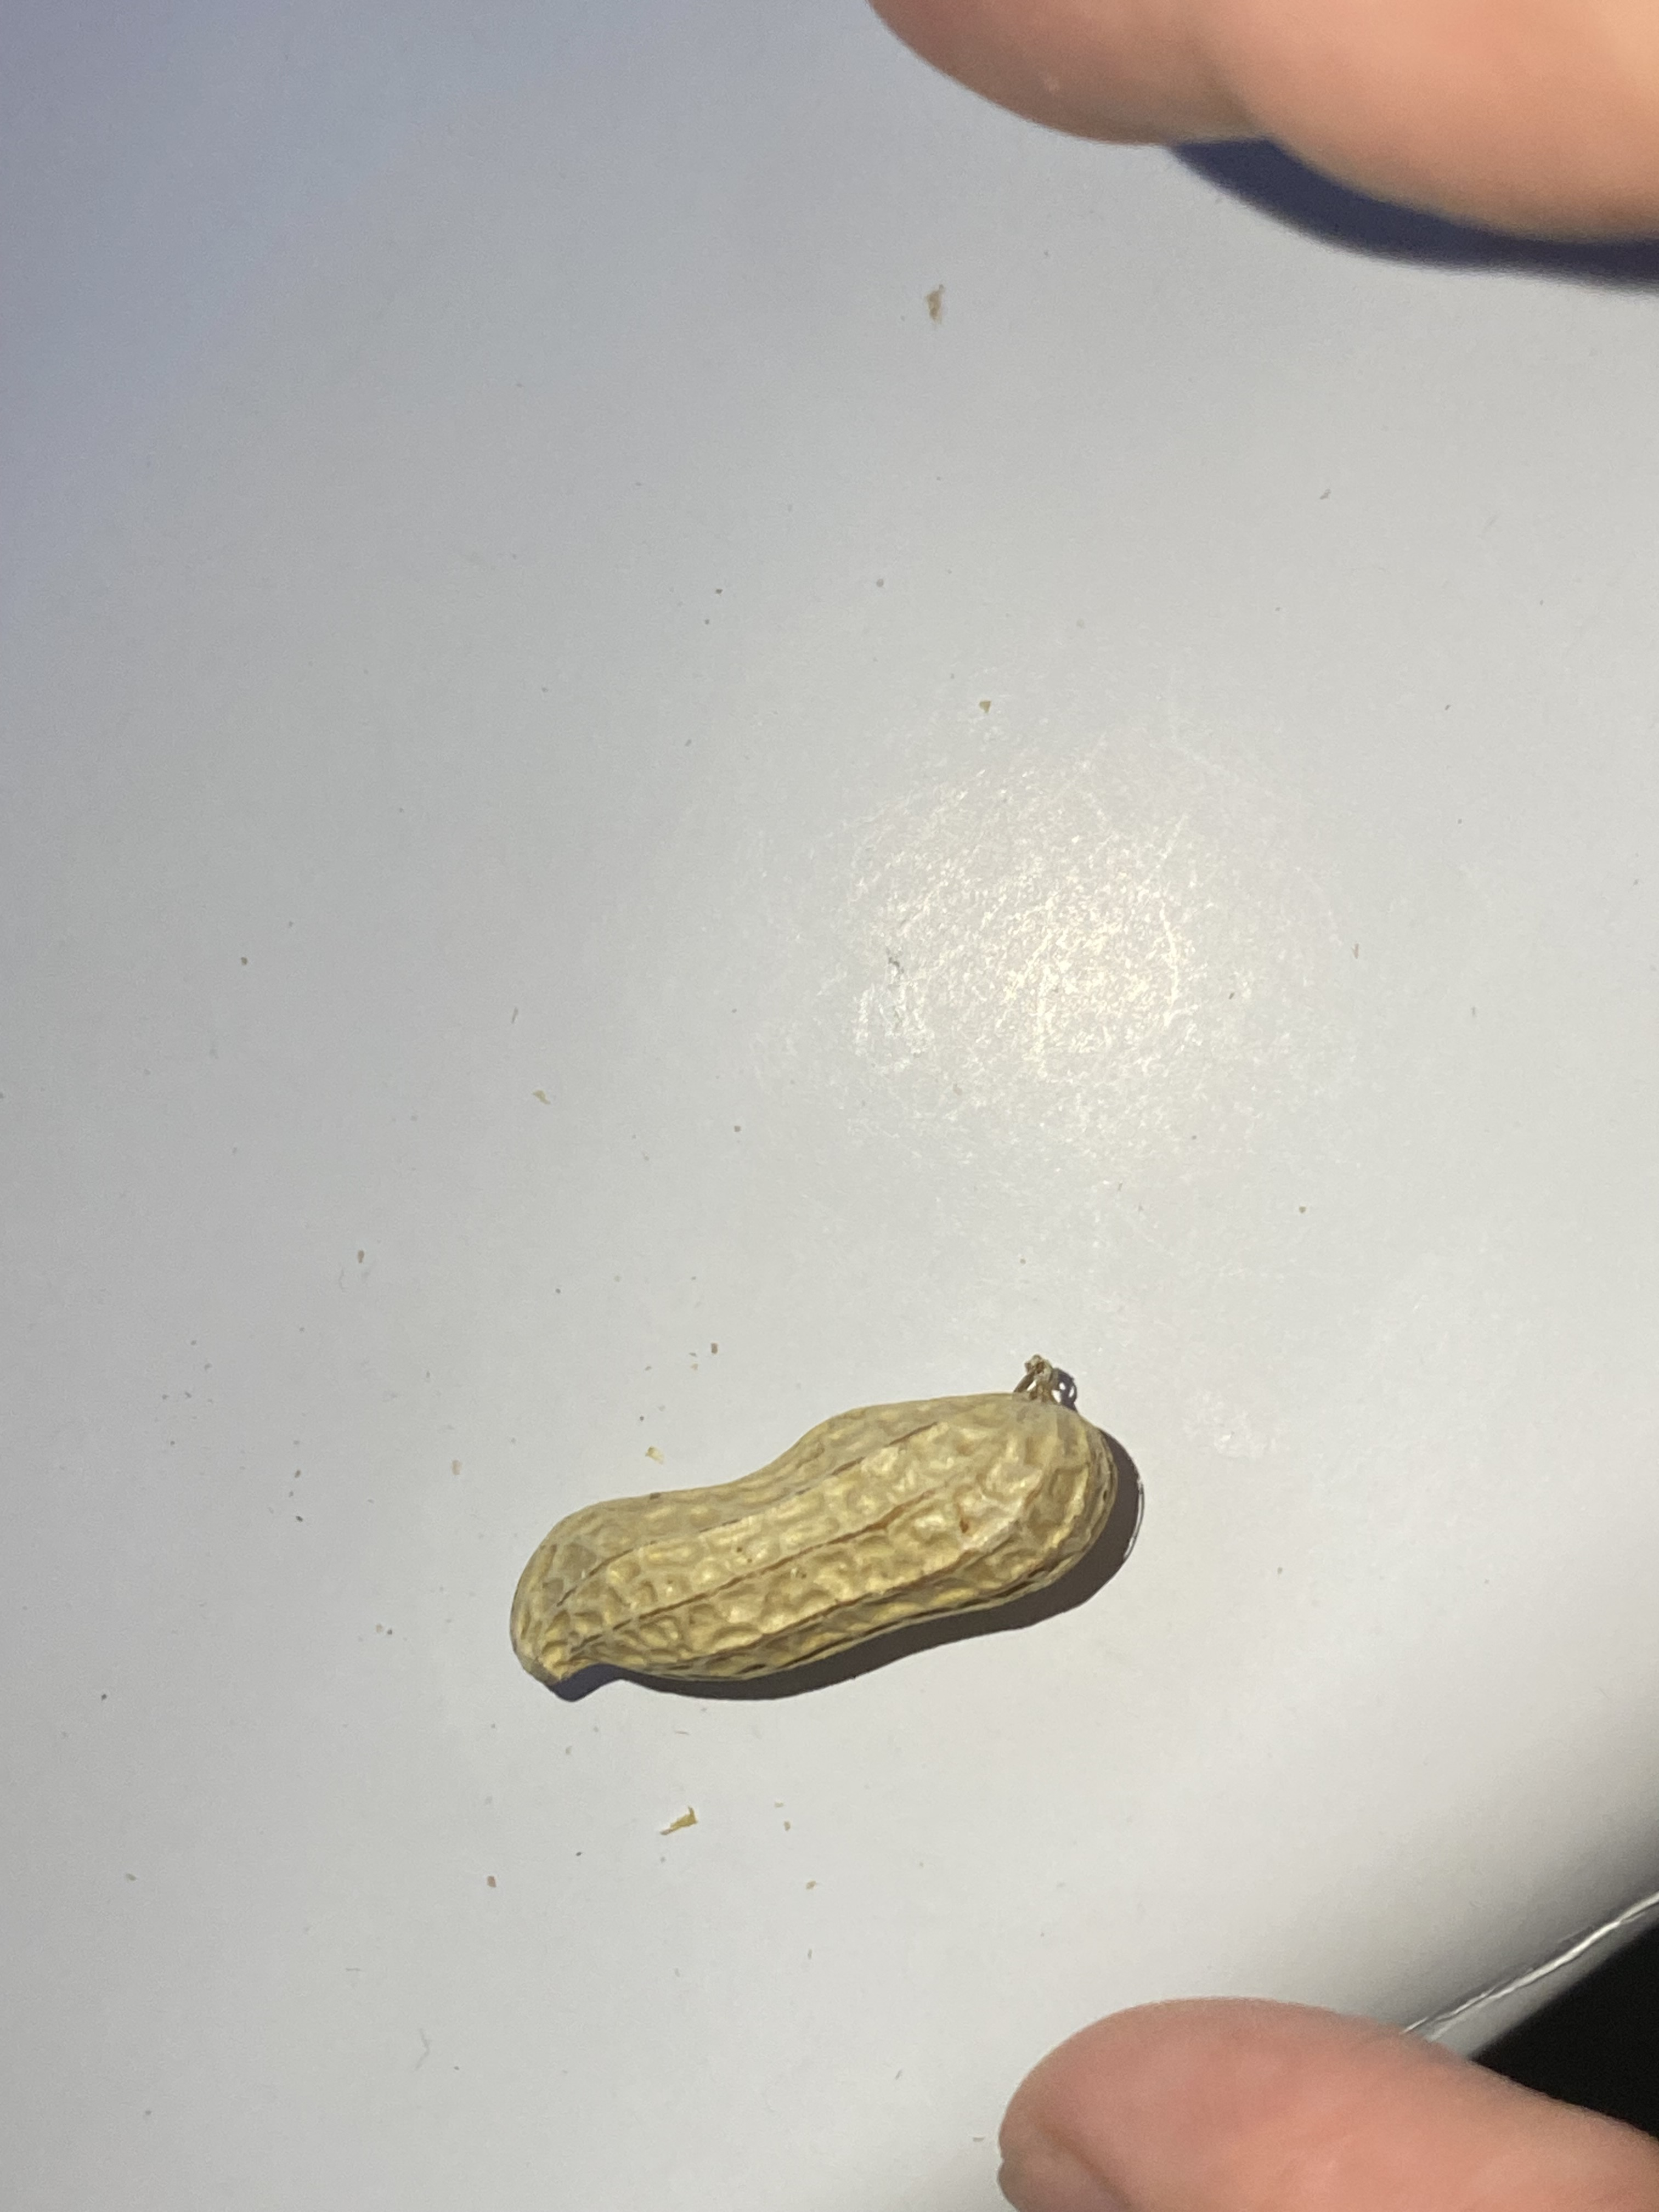kacang2: (460, 1350, 1178, 1716)
